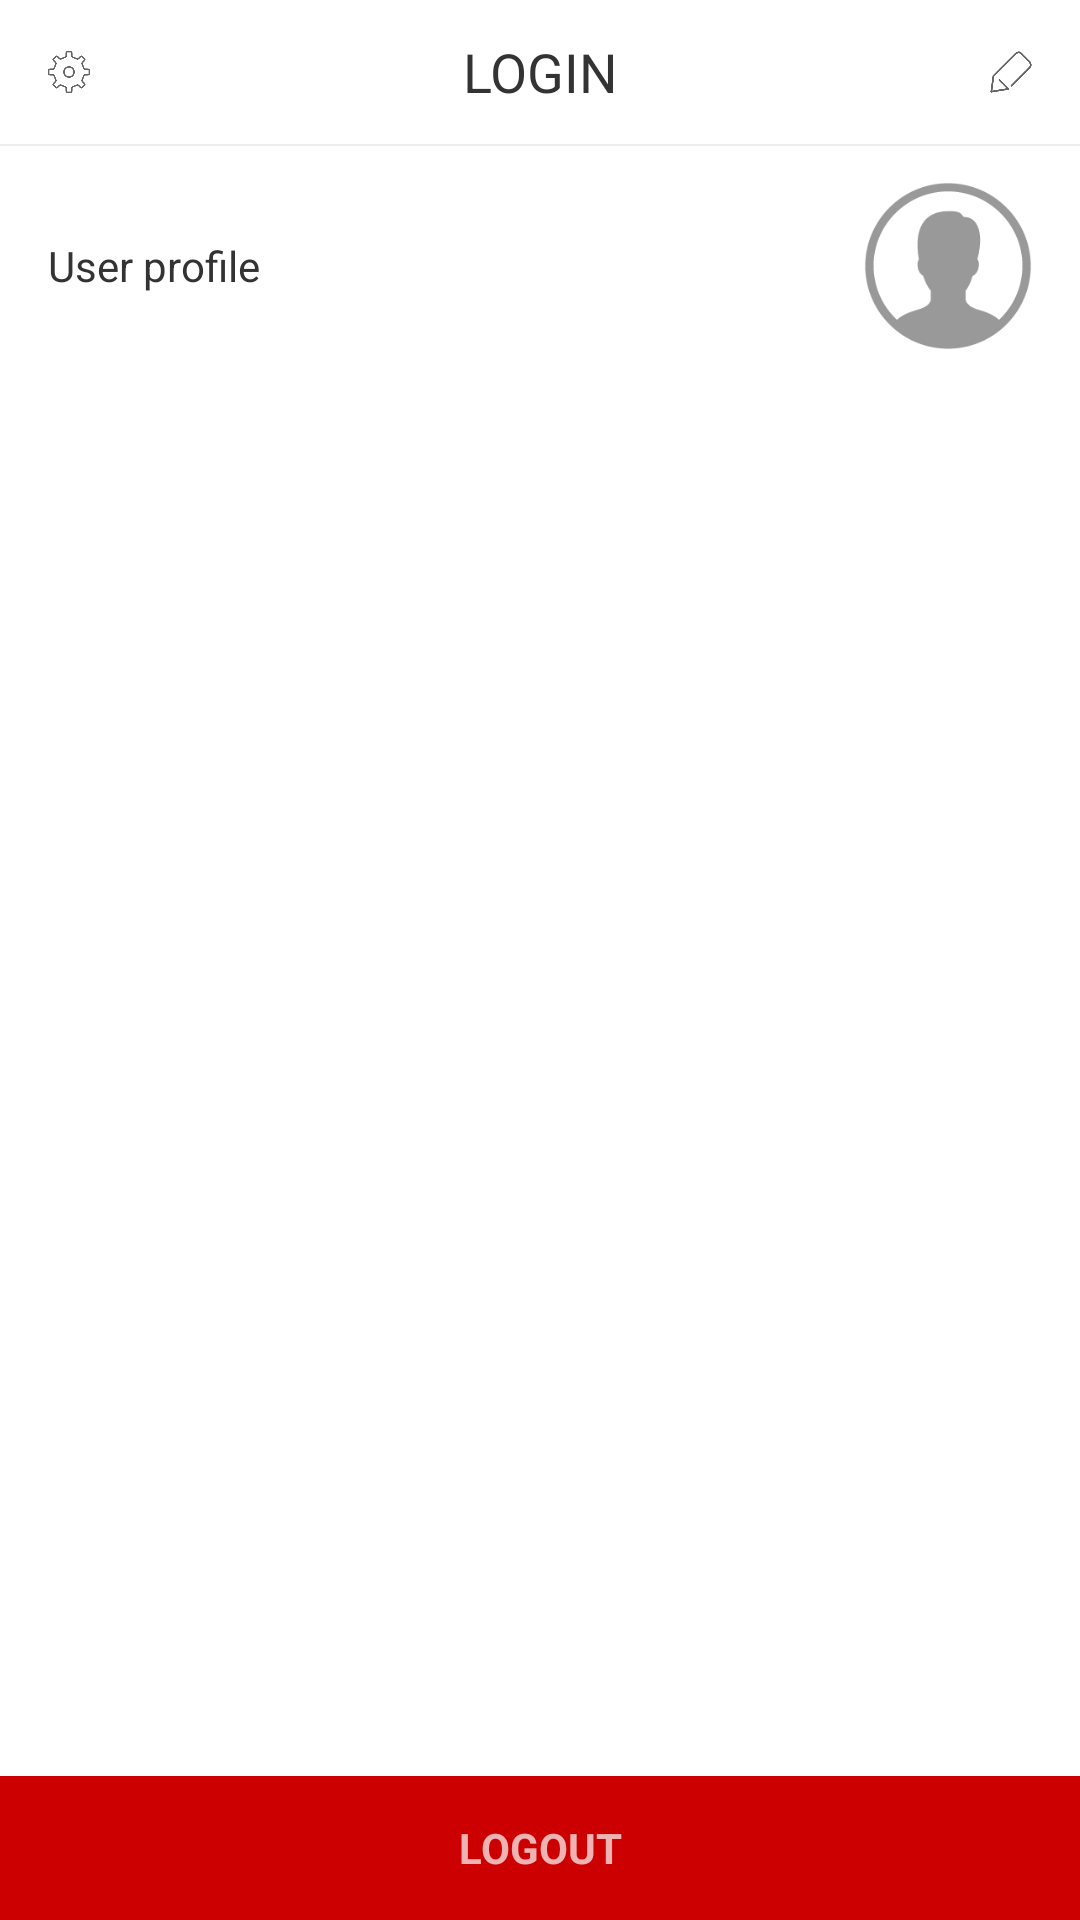

Where to tap for icons on this 1080*1920 app screen, as [x,y]:
edit: [1011,72]
settings: [69,72]
